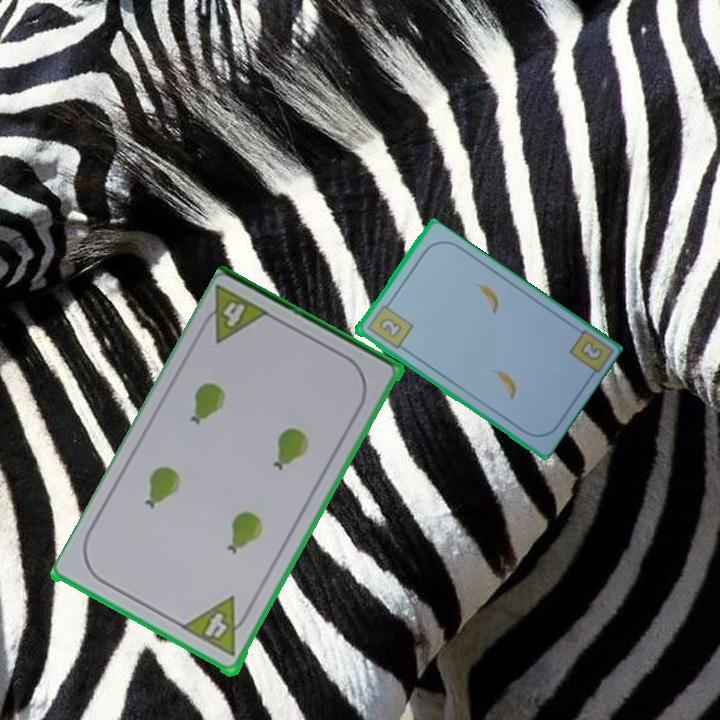2b: (363, 297, 415, 352), (576, 337, 605, 364)
4p: (181, 594, 234, 646), (219, 299, 248, 331)
